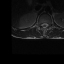CCS_normal: (43, 21, 46, 29)
LFS_normal: (48, 22, 50, 28)
LLS_normal: (46, 21, 48, 28)
RFS_normal: (39, 23, 41, 27)
RLS_normal: (41, 22, 43, 28)
